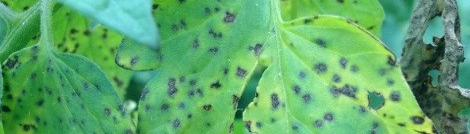Tomato Septoria leaf spot: (123, 0, 458, 134), (0, 37, 136, 134)
